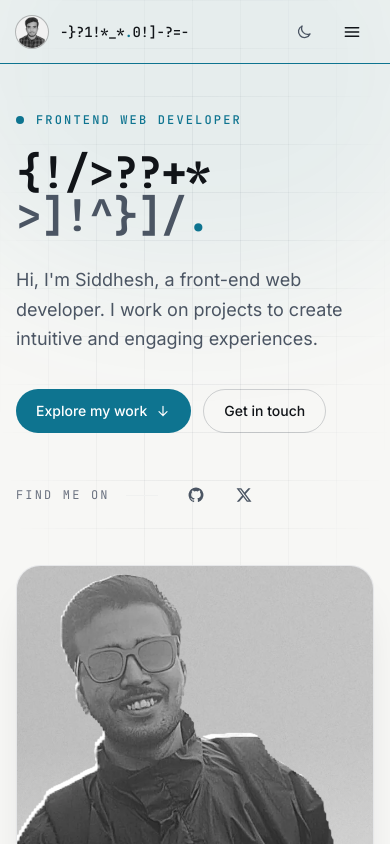
Test: mobile menu toggles its expanded state
The width and height of the screenshot is (390, 844).
Click the button named "open menu": (352, 32) [330,10,374,54]
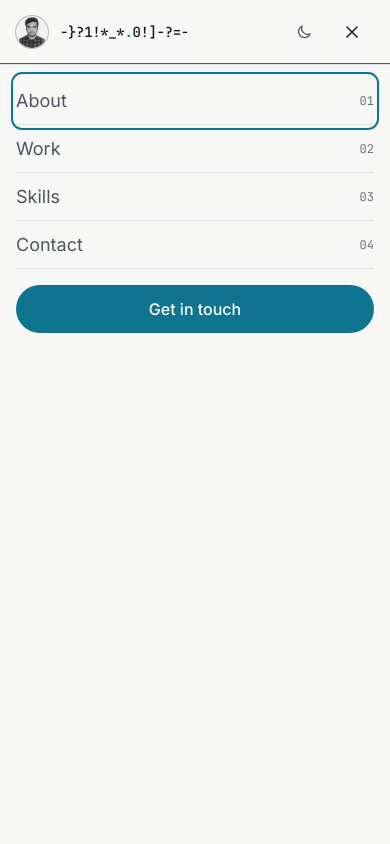
Check: the button named "close menu" is expanded, box [330,10,374,54]
Press Escape
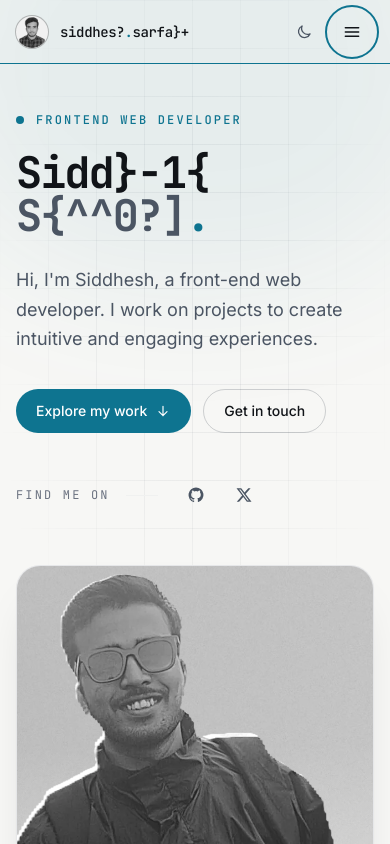
Check: the button named "open menu" is collapsed, box [330,10,374,54]
